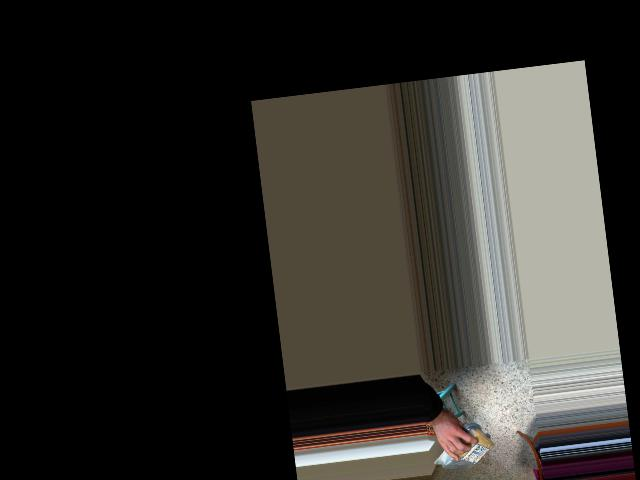cheese: (431, 431, 503, 469)
